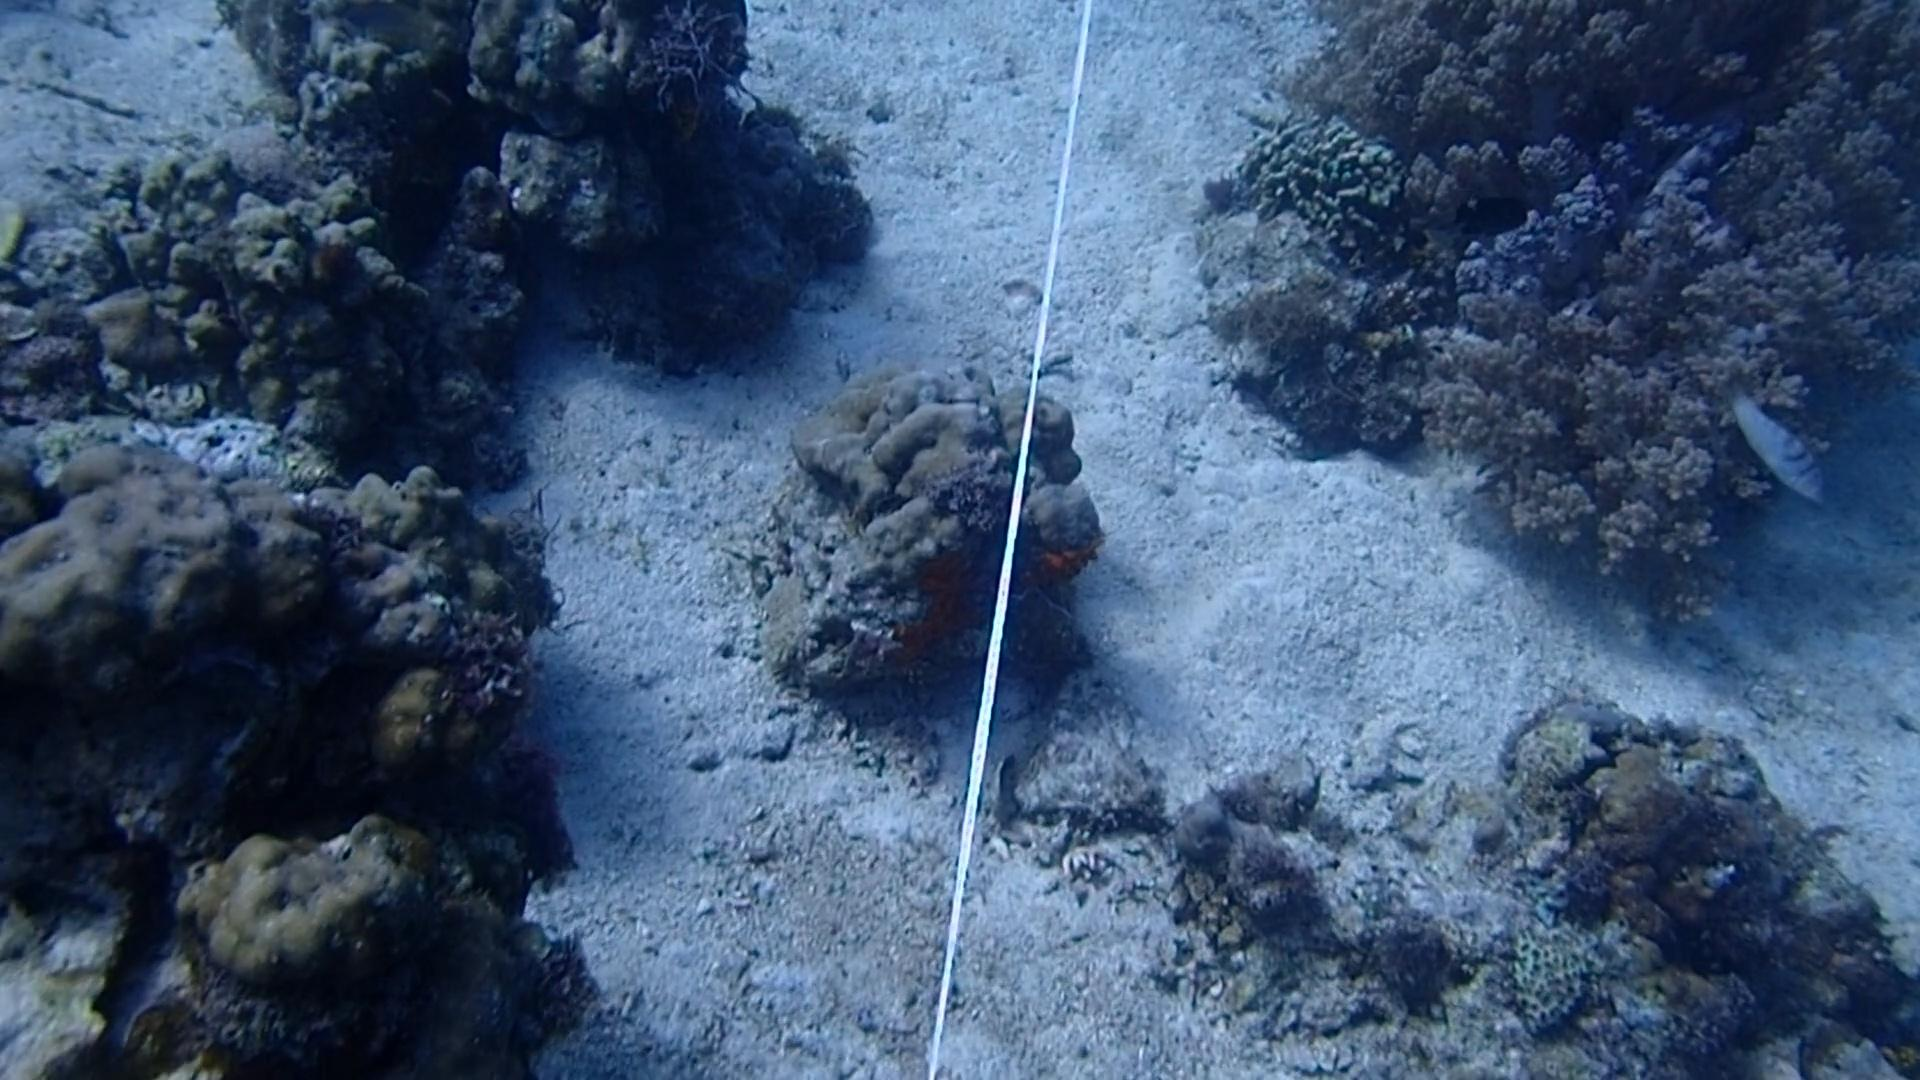Dark Fish: (1451, 183, 1539, 252)
Light Fish w Back Stripes: (1720, 371, 1838, 510)
